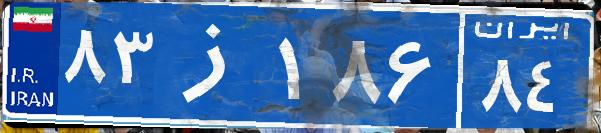1: (273, 28, 330, 110)
3: (110, 28, 158, 105)
4: (525, 38, 570, 115)
6: (385, 28, 445, 110)
8: (330, 28, 385, 110), (57, 26, 110, 107), (475, 38, 525, 113)
ز: (158, 15, 273, 115)
